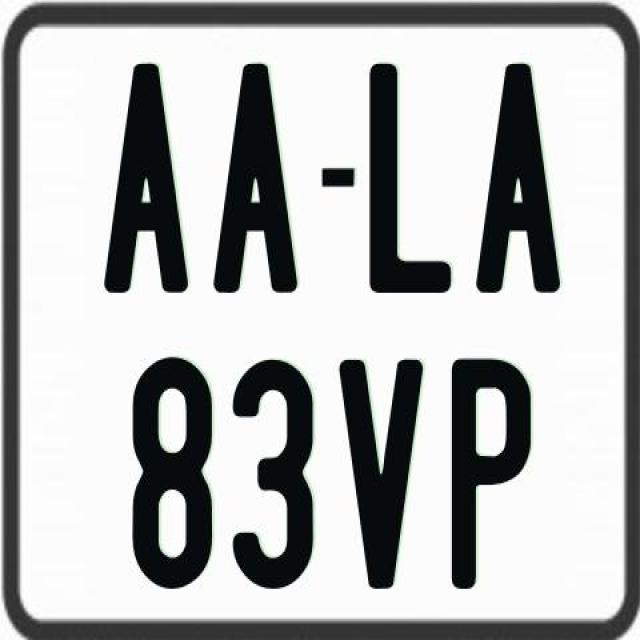3: (232, 357, 318, 590)
8: (128, 356, 216, 590)
A: (210, 59, 302, 298), (474, 61, 562, 300), (100, 64, 186, 299)
L: (368, 59, 451, 291)
P: (452, 354, 531, 594)
V: (340, 358, 430, 597)
